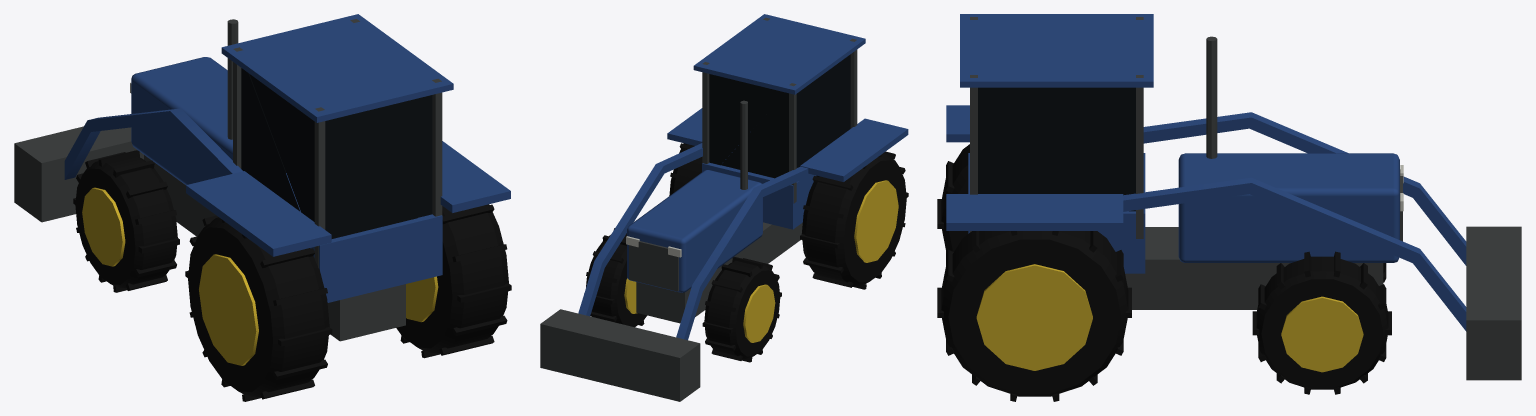
Rendered from vehicle.farm.tractor_blue_loader.glb.
The picture shows the model from 3 angles, left to right: view 1: azimuth 30°, elevation 25°; view 2: azimuth 150°, elevation 25°; view 3: azimuth 270°, elevation 25°; orthographic projection. The views are drawn at different scales.
Visible parts, largest first — view 1: main__enamel_247, main__rubber, main__glass_dark, main__paint_ca2, main__paint_333, main__enamel_333, main__steel_333; view 2: main__enamel_247, main__rubber, main__glass_dark, main__enamel_333, main__paint_333, main__paint_ca2, main__steel_333; view 3: main__enamel_247, main__rubber, main__glass_dark, main__paint_ca2, main__paint_333, main__enamel_333, main__steel_333.
Boxes of the visible parts, left/top/right/bottom form: main__enamel_247: left=64, top=14, right=510, bottom=302; main__rubber: left=73, top=150, right=511, bottom=401; main__glass_dark: left=241, top=68, right=432, bottom=238; main__paint_ca2: left=82, top=187, right=438, bottom=365; main__paint_333: left=144, top=19, right=442, bottom=341; main__enamel_333: left=14, top=126, right=143, bottom=222; main__steel_333: left=227, top=19, right=238, bottom=139; main__enamel_247: left=578, top=14, right=908, bottom=340; main__rubber: left=586, top=143, right=908, bottom=362; main__glass_dark: left=709, top=54, right=850, bottom=178; main__enamel_333: left=540, top=309, right=700, bottom=401; main__paint_333: left=629, top=17, right=857, bottom=323; main__paint_ca2: left=624, top=180, right=898, bottom=342; main__steel_333: left=740, top=100, right=747, bottom=189; main__enamel_247: left=946, top=14, right=1466, bottom=331; main__rubber: left=937, top=144, right=1391, bottom=401; main__glass_dark: left=978, top=87, right=1135, bottom=211; main__paint_ca2: left=976, top=264, right=1363, bottom=372; main__paint_333: left=970, top=17, right=1402, bottom=309; main__enamel_333: left=1466, top=226, right=1521, bottom=380; main__steel_333: left=1206, top=36, right=1217, bottom=158.
Size of the model in its own units: 2.56 by 2.97 by 5.28.
